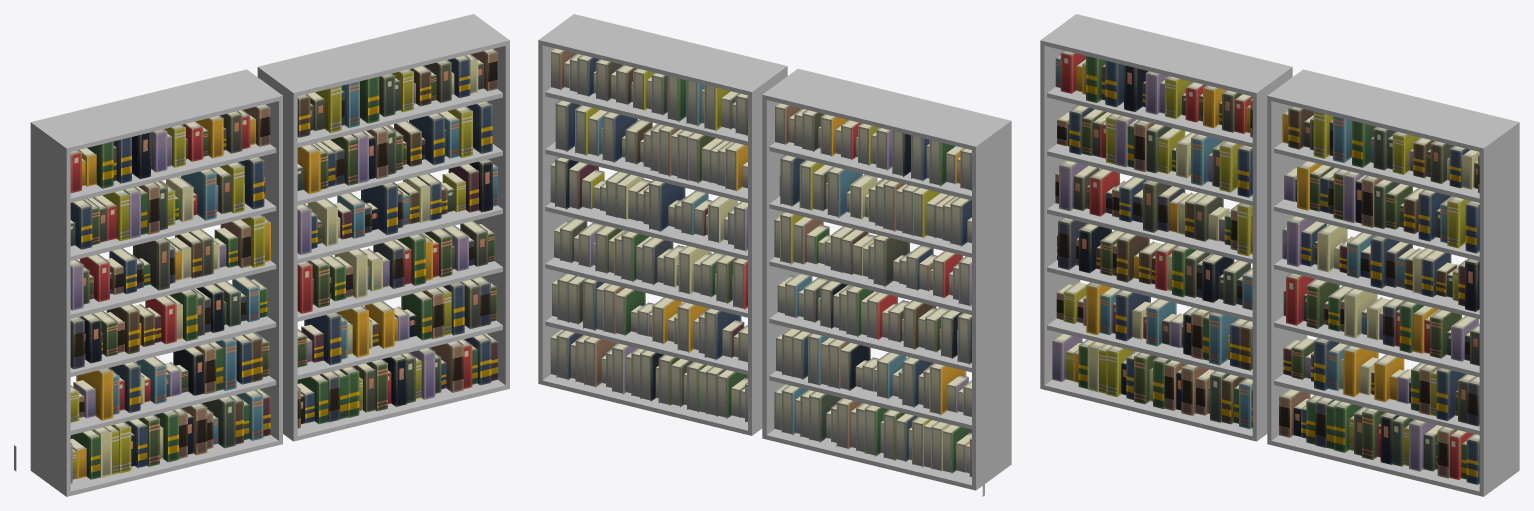
Rendered from biblioteca.fbx.
3 renders of one model, left to right at view 1: azimuth 30°, elevation 25°; view 2: azimuth 150°, elevation 25°; view 3: azimuth 330°, elevation 25°, orthographic.
Visible parts, largest first — view 1: library; view 2: library; view 3: library.
Part boxes in pixels (x1=…): library: x1=14, y1=14, x2=509, y2=496; library: x1=538, y1=14, x2=1011, y2=496; library: x1=1040, y1=14, x2=1519, y2=496.
Bounding box in the file's own units: 21867 × 16000 × 3408.
